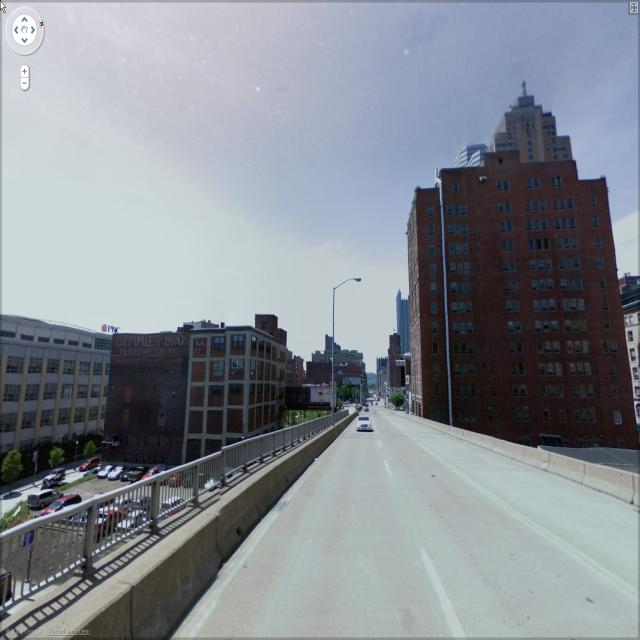b_1: (410, 163, 636, 450), (0, 322, 120, 437), (100, 329, 192, 466), (192, 325, 284, 449), (497, 89, 578, 173), (441, 140, 497, 194), (381, 336, 411, 416), (397, 295, 411, 365)
